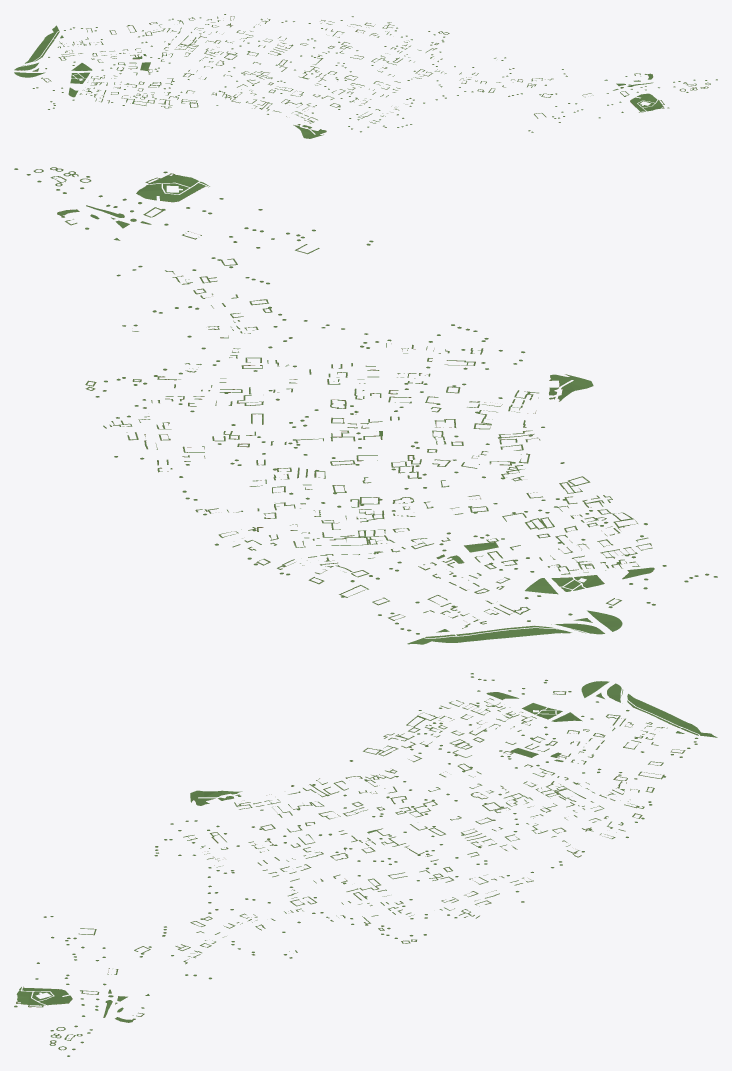
The model's file is landscape.glb.
The picture shows the model from 3 angles, top to bottom: view 1: azimuth 30°, elevation 25°; view 2: azimuth 150°, elevation 25°; view 3: azimuth 270°, elevation 25°; orthographic projection. The views are drawn at different scales.
Parts seen in each view (by area): view 1: Landscape12_grass, Landscape12_soil; view 2: Landscape12_grass, Landscape12_soil; view 3: Landscape12_grass, Landscape12_soil.
Boxes of the visible parts, left/top/right/bottom form: Landscape12_grass: left=14, top=14, right=717, bottom=138; Landscape12_soil: left=17, top=16, right=708, bottom=129; Landscape12_grass: left=14, top=167, right=717, bottom=644; Landscape12_soil: left=28, top=167, right=717, bottom=636; Landscape12_grass: left=14, top=673, right=717, bottom=1056; Landscape12_soil: left=16, top=678, right=695, bottom=1050.
Bounding box in the file's own units: 2066 × 13.99 × 1601.
